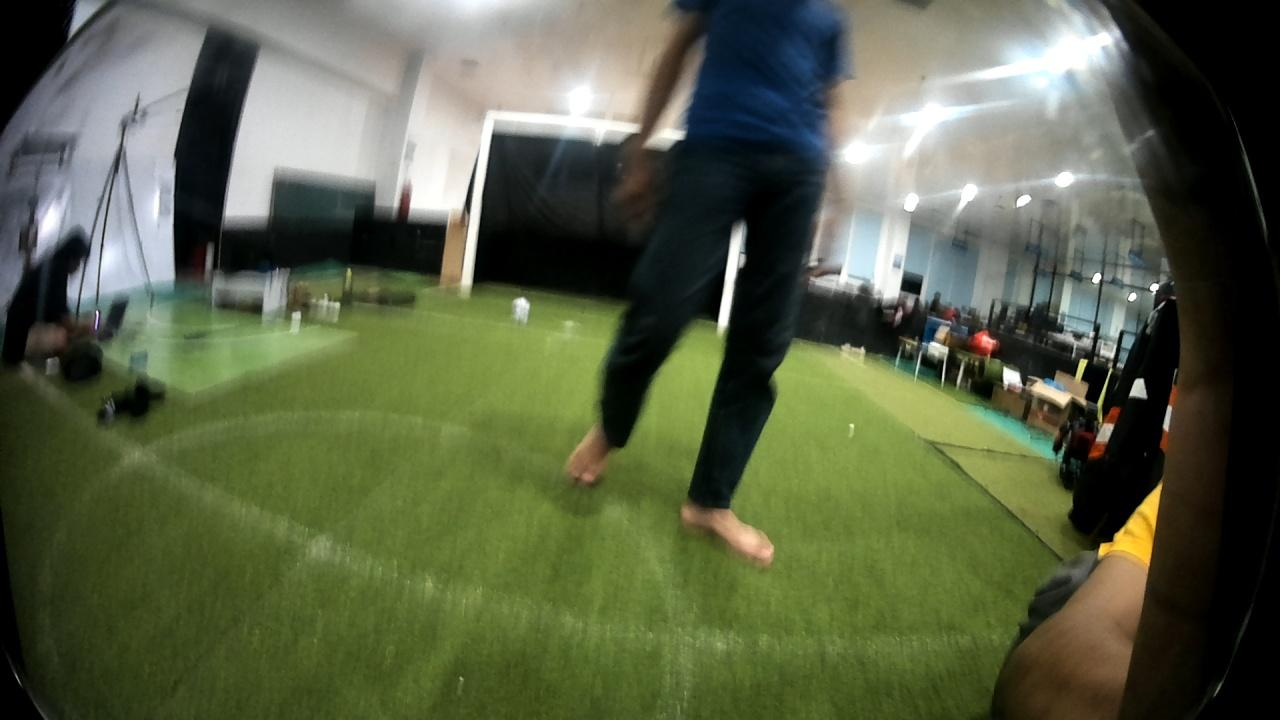ball: (514, 295, 531, 324)
